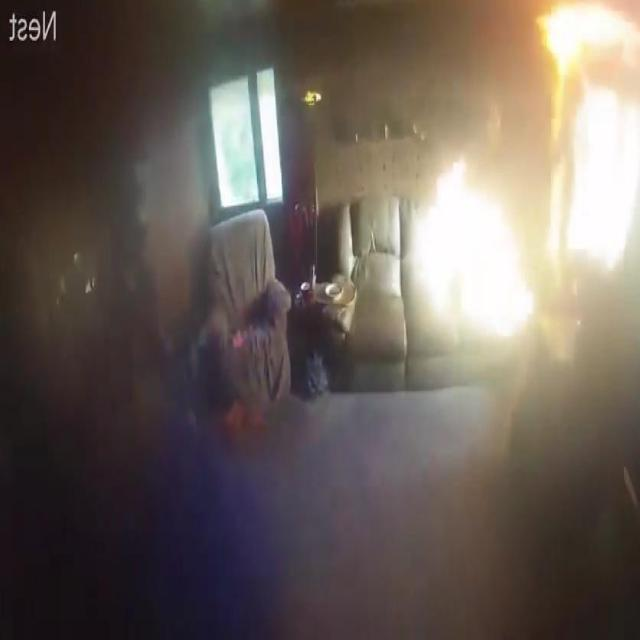smoke: (534, 0, 640, 75)
